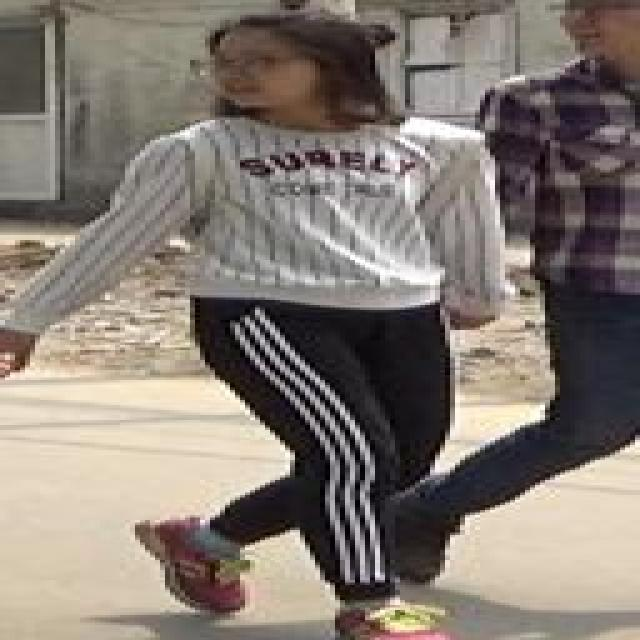adult: (11, 12, 510, 640), (460, 0, 640, 626)
